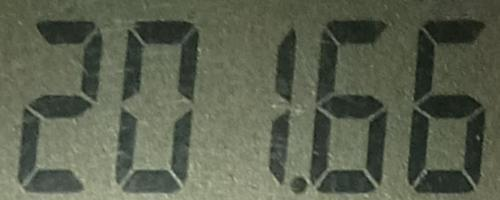.: (288, 173, 308, 196)
